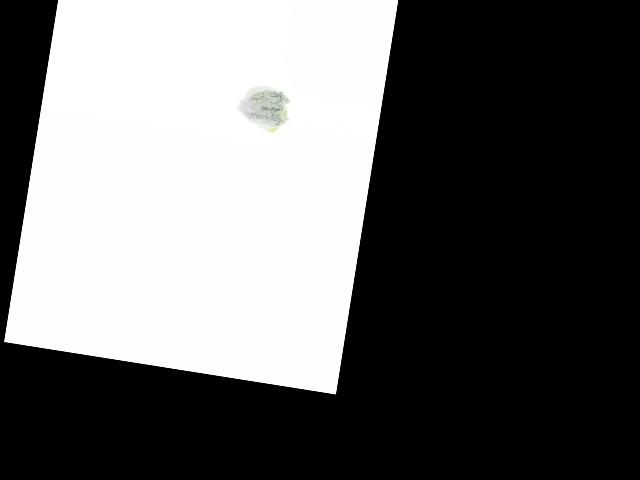lettuce: (234, 80, 293, 136)
